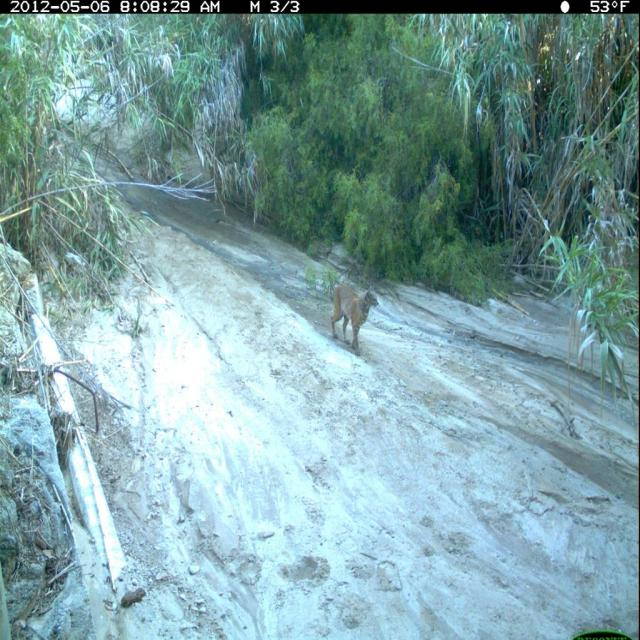bobcat: (328, 278, 383, 360)
